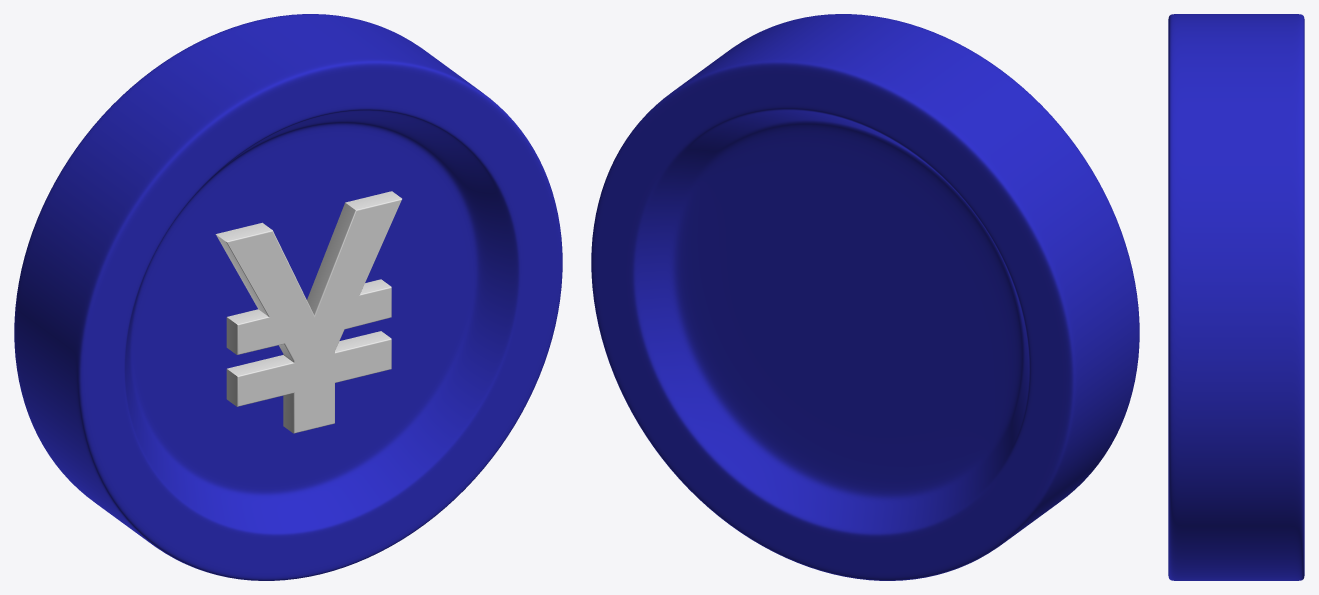
Rendered from yuan.fbx.
The picture shows the model from 3 angles, left to right: view 1: azimuth 30°, elevation 25°; view 2: azimuth 150°, elevation 25°; view 3: azimuth 270°, elevation 25°; orthographic projection.
Visible parts, largest first — view 1: Yun; view 2: Yun; view 3: Yun.
Boxes of the visible parts, x1,y1,x2,y2 form: Yun: [14, 14, 562, 580]; Yun: [591, 14, 1139, 580]; Yun: [1168, 14, 1304, 580].
Size of the model in its own units: 186 by 186 by 44.8.
